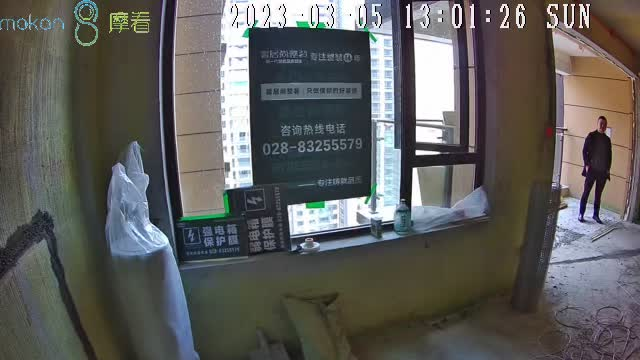people: (578, 115, 613, 224)
window: (161, 1, 492, 228)
